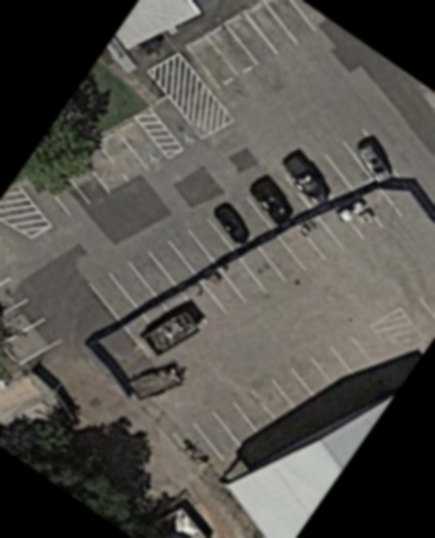parkingspot: (84, 127, 398, 325), (169, 332, 388, 477), (177, 207, 369, 327), (16, 118, 171, 231), (180, 0, 323, 96), (0, 260, 66, 368), (148, 95, 207, 154), (355, 185, 407, 233), (397, 285, 435, 347)
